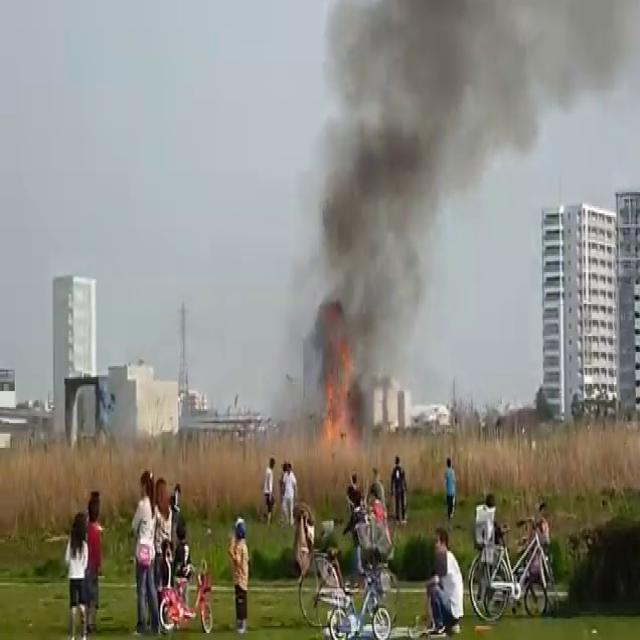Fire: (316, 332, 362, 457)
Smoke: (285, 0, 568, 428)
